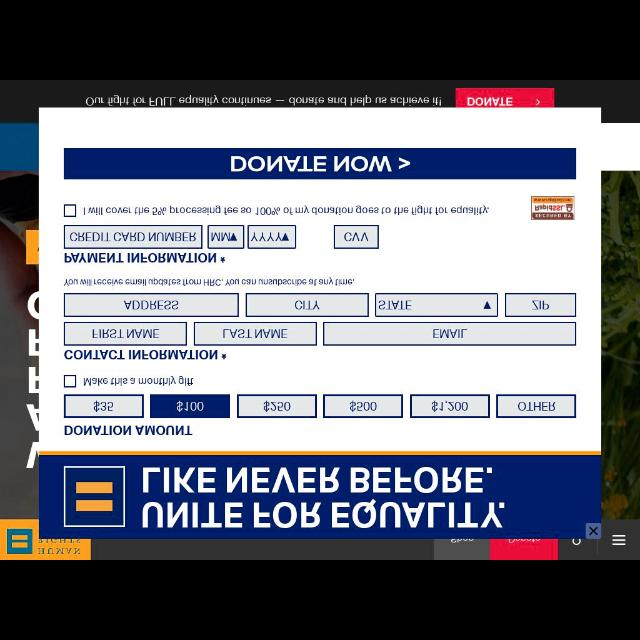checkbox: (64, 375, 76, 387), (64, 206, 76, 216)
icon: (610, 532, 626, 546), (589, 526, 599, 536), (482, 301, 492, 309), (230, 234, 238, 242), (282, 232, 288, 240)
spinner: (377, 294, 498, 316), (250, 225, 296, 247), (208, 225, 244, 249)
text: (141, 468, 505, 528), (82, 205, 492, 217), (84, 96, 443, 106), (230, 154, 392, 173), (64, 277, 354, 287), (63, 251, 225, 265), (64, 348, 218, 360), (64, 422, 192, 436), (84, 374, 194, 388), (70, 232, 198, 244), (223, 326, 289, 339), (124, 298, 178, 312), (90, 328, 162, 338), (468, 96, 514, 110), (432, 399, 468, 411), (264, 399, 292, 413), (250, 230, 282, 242), (518, 401, 556, 411), (377, 300, 411, 310), (175, 400, 203, 412), (349, 400, 377, 412), (433, 328, 465, 338), (294, 299, 320, 311), (343, 230, 369, 242), (94, 400, 116, 412), (532, 298, 550, 312), (211, 231, 231, 241)
textbutton: (65, 148, 575, 178), (324, 322, 576, 346), (65, 294, 239, 316), (245, 294, 368, 318), (64, 227, 202, 247), (64, 322, 186, 344), (194, 322, 316, 344), (64, 394, 144, 418), (150, 394, 230, 418), (498, 394, 574, 418), (324, 395, 404, 417), (412, 395, 491, 417), (238, 395, 316, 417), (506, 294, 576, 316), (334, 225, 378, 248)
